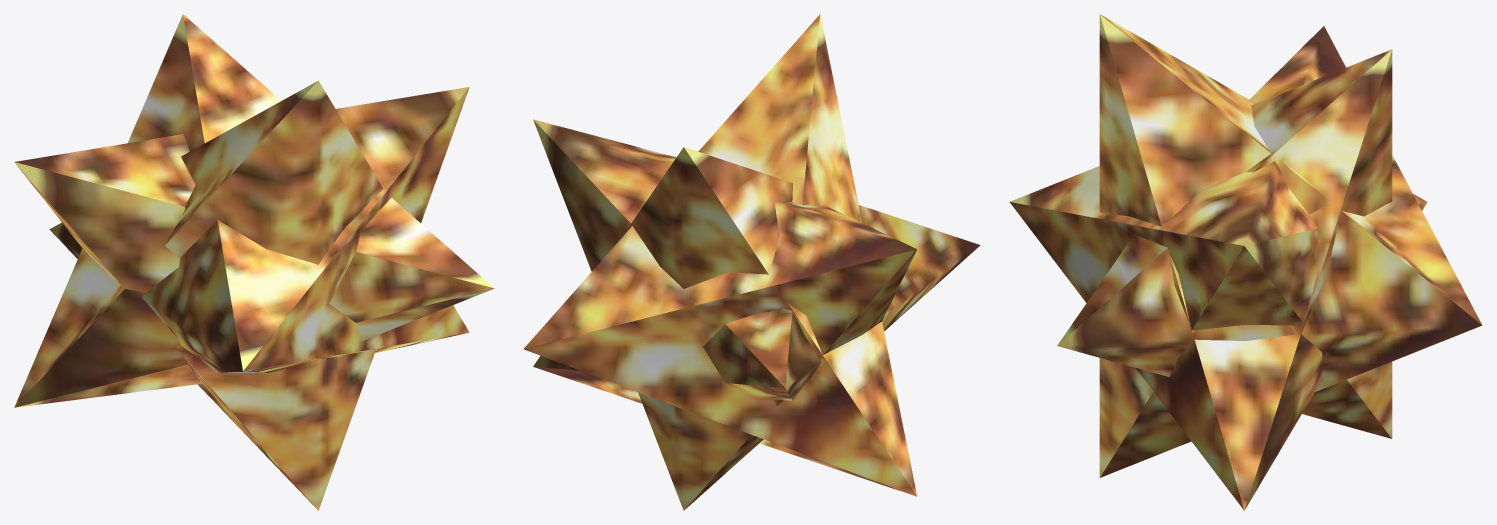
Rendered from Hedra06.obj.
3 views of the same model, side by side, from view 1: azimuth 30°, elevation 25°; view 2: azimuth 150°, elevation 25°; view 3: azimuth 270°, elevation 25° (orthographic). The views are drawn at different scales.
Parts seen in each view (by area): view 1: Hedra06; view 2: Hedra06; view 3: Hedra06.
Boxes of the visible parts, x1=… form: Hedra06: x1=14, y1=14, x2=494, y2=510; Hedra06: x1=523, y1=14, x2=980, y2=510; Hedra06: x1=1010, y1=14, x2=1482, y2=510.
Bounding box in the file's own units: 31.23 × 30.68 × 28.35.
